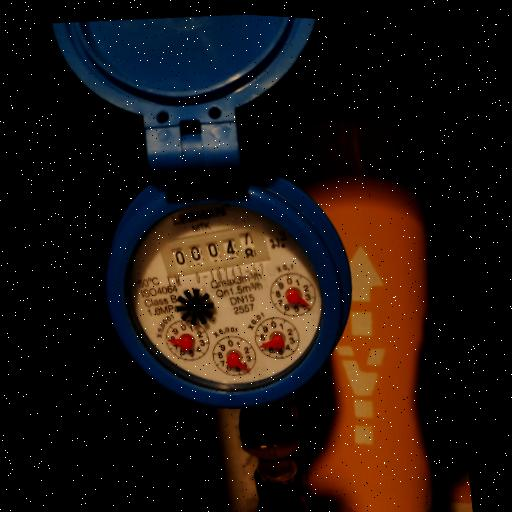0: (172, 245, 190, 271), (188, 243, 205, 267), (206, 240, 223, 264)
4: (222, 236, 239, 261)
7: (238, 231, 257, 261)
border_water_meter_number: (156, 216, 273, 286)
